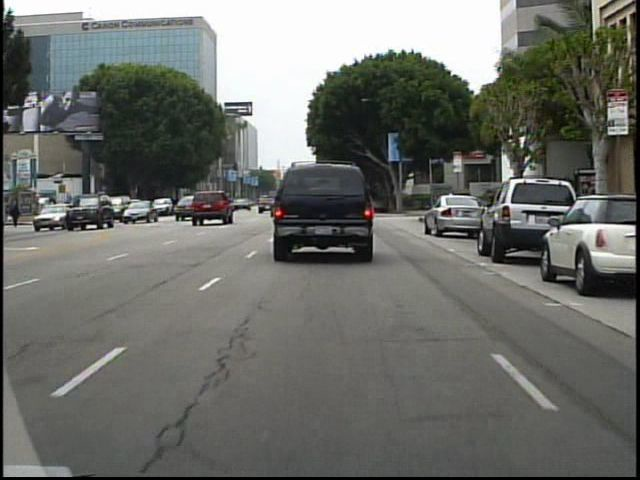person: (495, 177, 517, 225), (443, 187, 462, 227), (11, 203, 25, 230)
